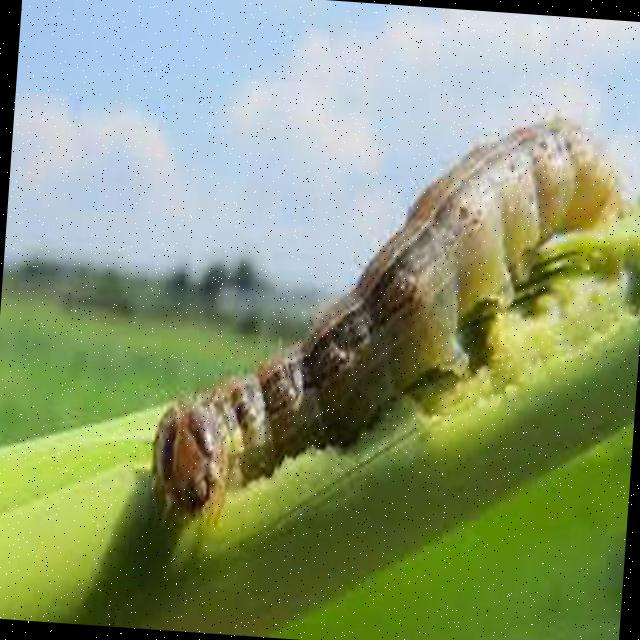worm: (144, 90, 640, 568)
